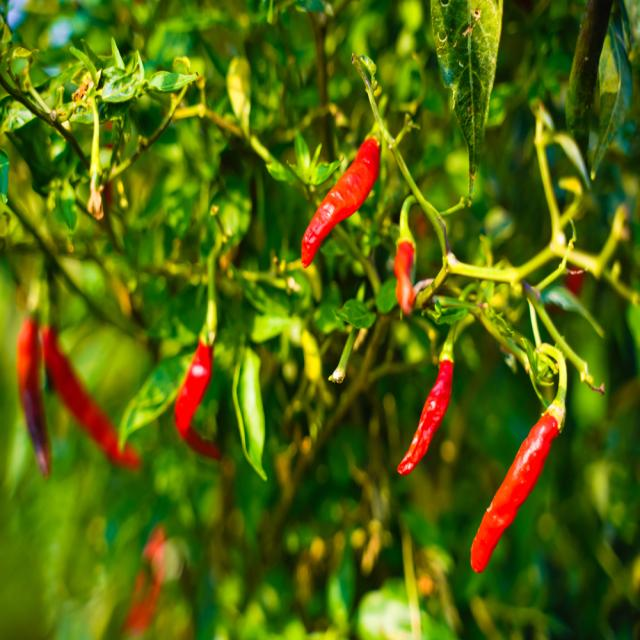Ripe: (471, 412, 559, 573), (301, 137, 380, 268), (398, 360, 452, 474), (175, 339, 221, 458)
